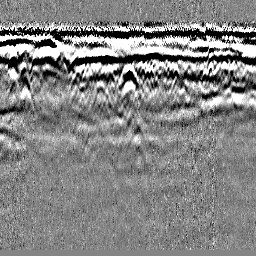cavity: (116, 64, 141, 92)
